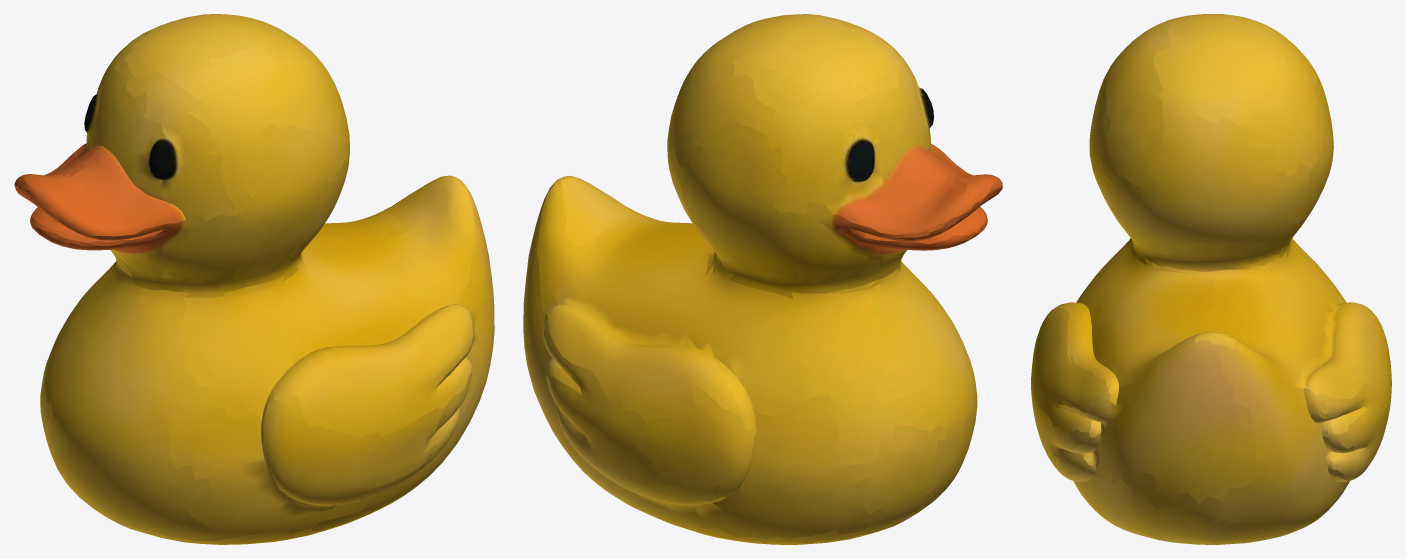
File: i-rubberduck.glb
3 renders of one model, left to right at view 1: azimuth 30°, elevation 25°; view 2: azimuth 150°, elevation 25°; view 3: azimuth 270°, elevation 25°, orthographic. The views are drawn at different scales.
Parts seen in each view (by area): view 1: geometry_0; view 2: geometry_0; view 3: geometry_0.
Boxes of the visible parts, left/top/right/bottom form: geometry_0: left=14, top=14, right=494, bottom=544; geometry_0: left=523, top=14, right=1002, bottom=544; geometry_0: left=1031, top=14, right=1391, bottom=544.
Bounding box in the file's own units: 0.11 × 0.1117 × 0.0819.
Materials: 1 (1 with a texture image).
